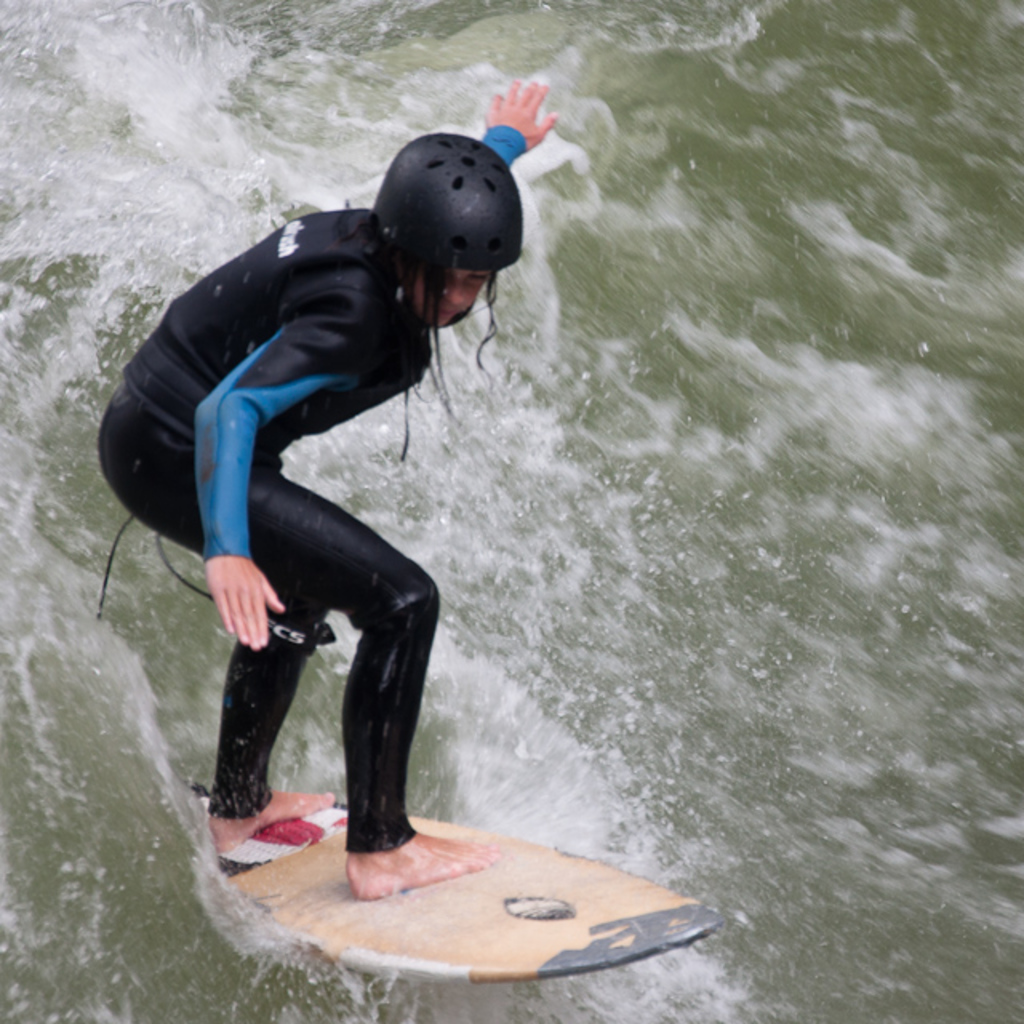Person: (97, 77, 558, 900)
